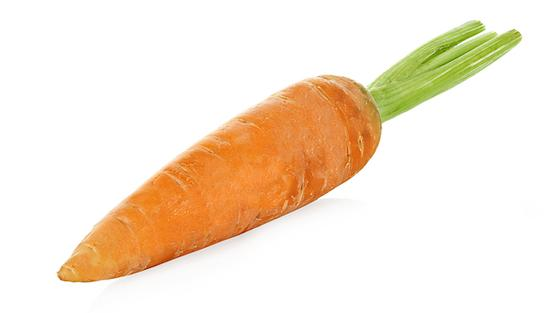carrot: (50, 62, 381, 285)
